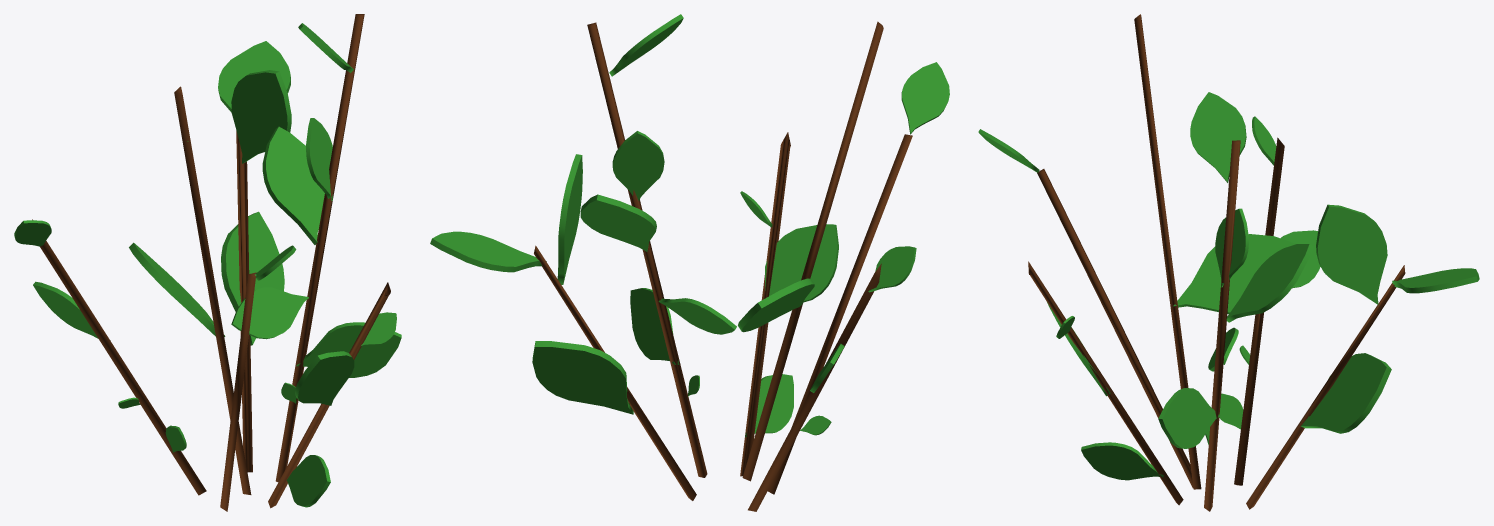
Rendered from Shrub01.fbx.
3 renders of one model, left to right at view 1: azimuth 30°, elevation 25°; view 2: azimuth 150°, elevation 25°; view 3: azimuth 270°, elevation 25°, orthographic. The views are drawn at different scales.
Visible parts, largest first — view 1: Shrub01; view 2: Shrub01; view 3: Shrub01.
Part boxes in pixels (x1=…): Shrub01: x1=14, y1=14, x2=401, y2=511; Shrub01: x1=430, y1=14, x2=949, y2=511; Shrub01: x1=978, y1=14, x2=1479, y2=511.
Size of the model in its own units: 62.69 by 75.94 by 78.43.
